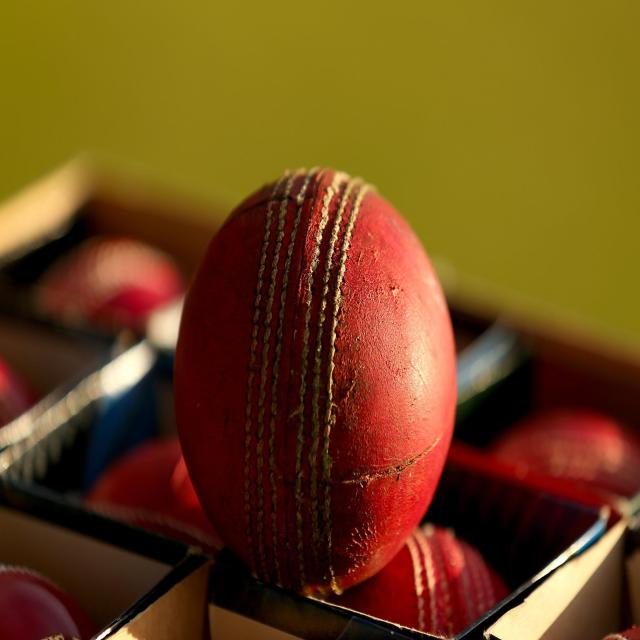ball: (172, 164, 458, 598)
